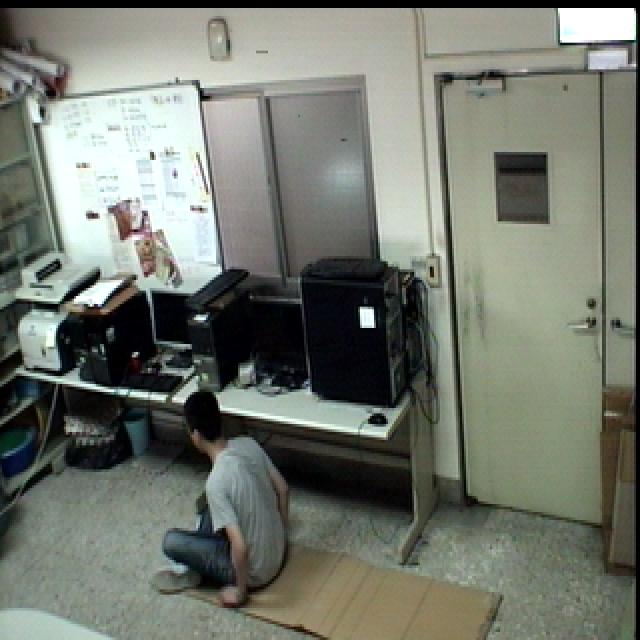sit: (146, 389, 304, 610)
